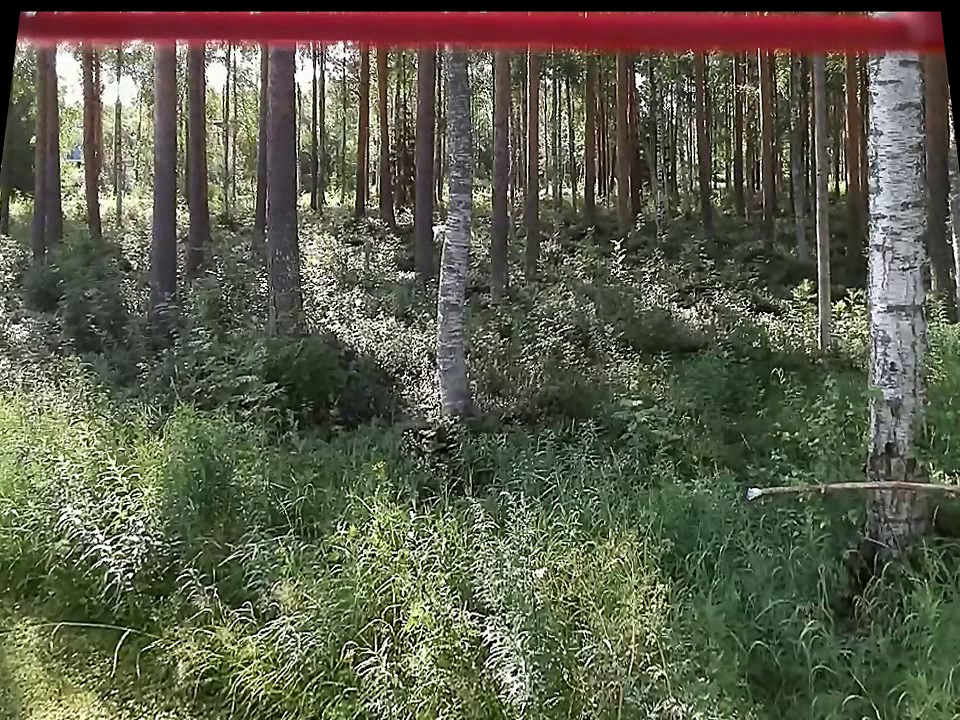branch: (771, 469, 953, 511)
